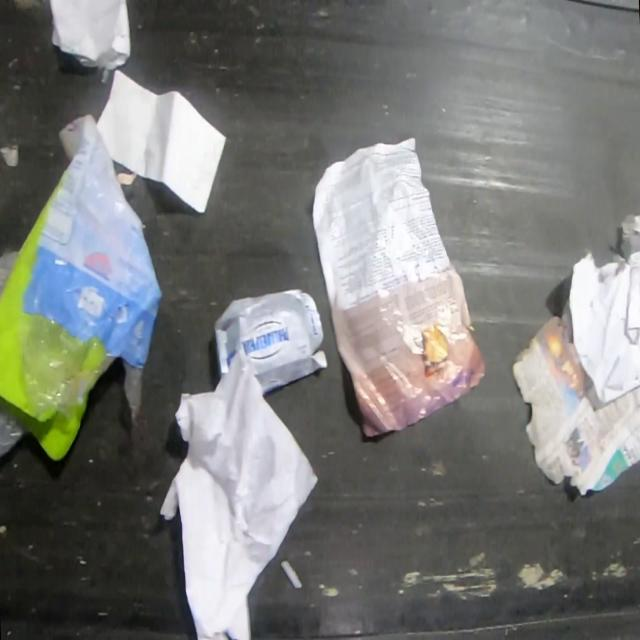cardboard: (214, 287, 328, 393)
soft_plastic: (21, 109, 165, 433), (0, 252, 29, 457)
